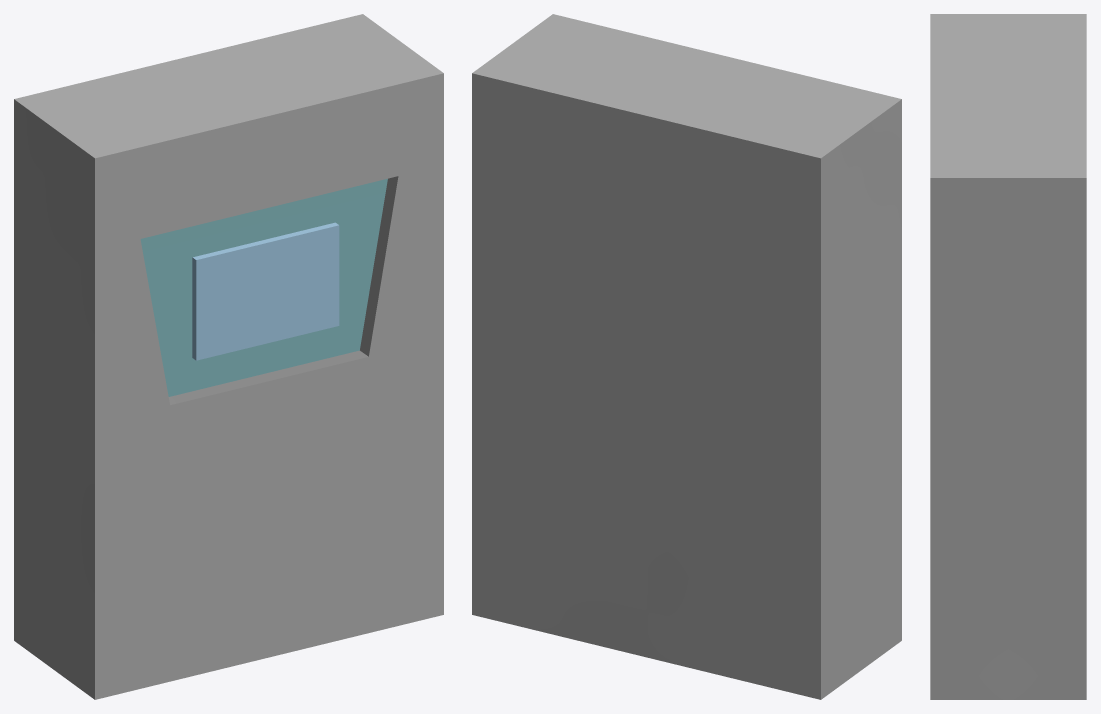
3 renders of one model, left to right at view 1: azimuth 30°, elevation 25°; view 2: azimuth 150°, elevation 25°; view 3: azimuth 270°, elevation 25°, orthographic. The views are drawn at different scales.
Parts seen in each view (by area): view 1: Lo-Body_01; view 2: Lo-Body_01; view 3: Lo-Body_01.
Part boxes in pixels (left/top/right/bottom): Lo-Body_01: left=14, top=14, right=443, bottom=699; Lo-Body_01: left=472, top=14, right=901, bottom=699; Lo-Body_01: left=930, top=14, right=1086, bottom=699.
Bounding box in the file's own units: 0.1064 × 0.1578 × 0.0428.
1 material, 1 textured.
